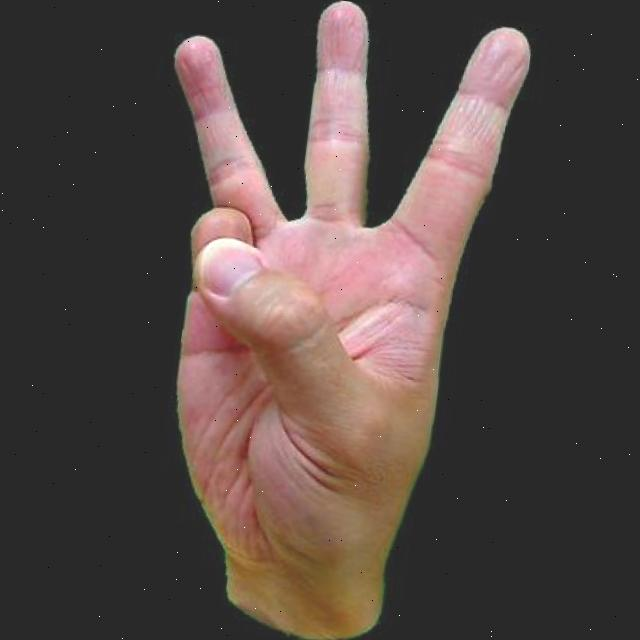w: (87, 0, 547, 640)
